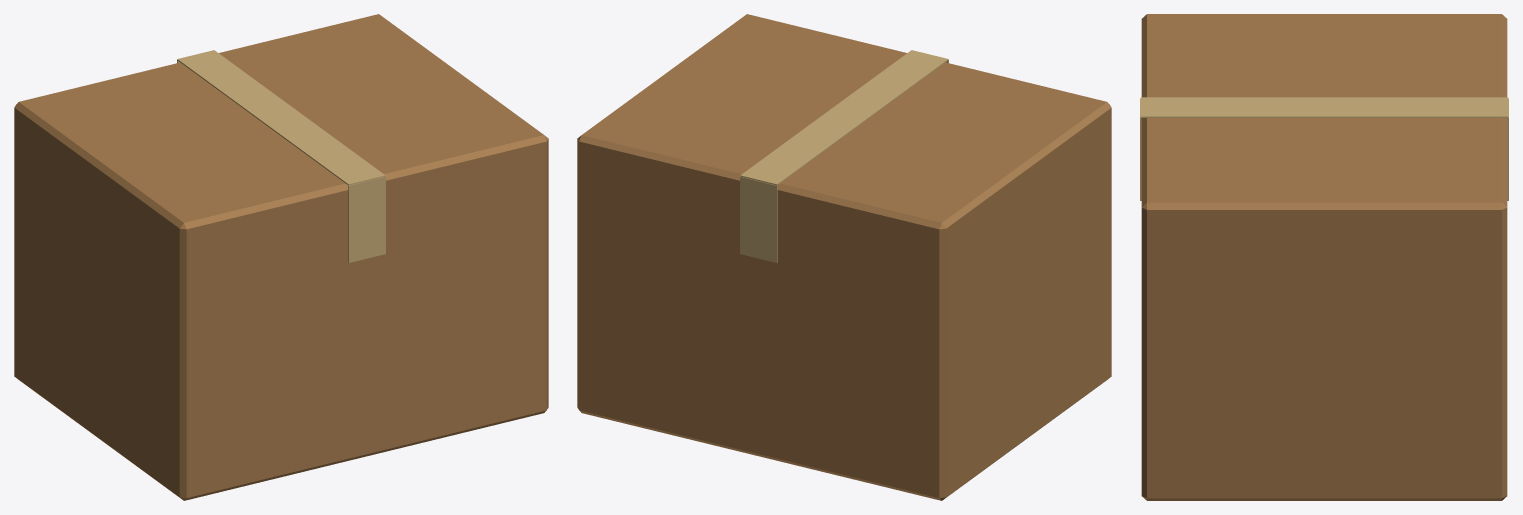
File: CaixaDePapelao.fbx
3 renders of one model, left to right at view 1: azimuth 30°, elevation 25°; view 2: azimuth 150°, elevation 25°; view 3: azimuth 270°, elevation 25°, orthographic. The views are drawn at different scales.
Visible parts, largest first — view 1: CaixaDePapelao; view 2: CaixaDePapelao; view 3: CaixaDePapelao.
Boxes of the visible parts, <box> form: CaixaDePapelao: <box>14,14,548,500</box>; CaixaDePapelao: <box>577,14,1111,500</box>; CaixaDePapelao: <box>1140,14,1508,500</box>.
Size of the model in its own units: 0.5 by 0.3616 by 0.4032.
